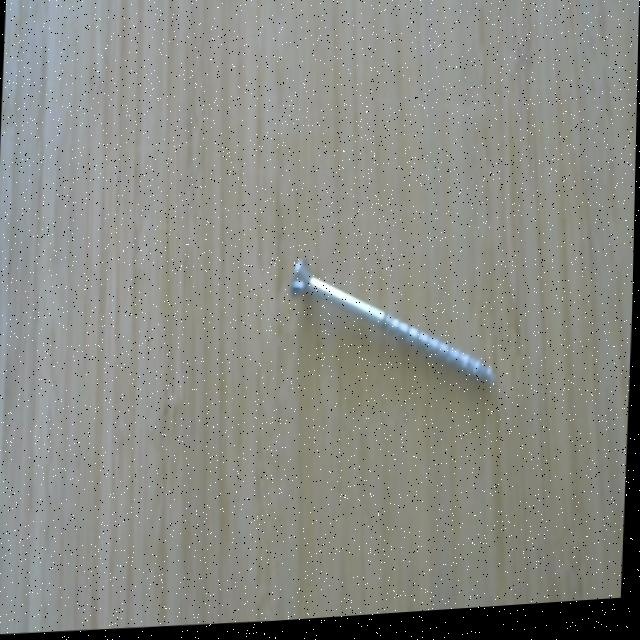Long screw: (278, 241, 506, 411)
